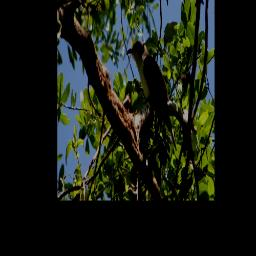Cuckoo: (125, 41, 176, 152)
